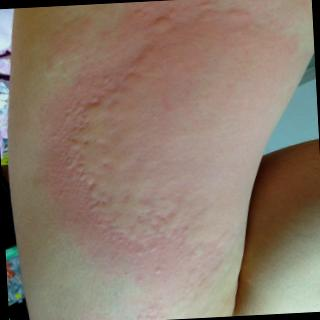urticaria: (85, 192, 226, 246), (53, 90, 122, 182), (121, 7, 207, 48), (119, 68, 146, 83)
